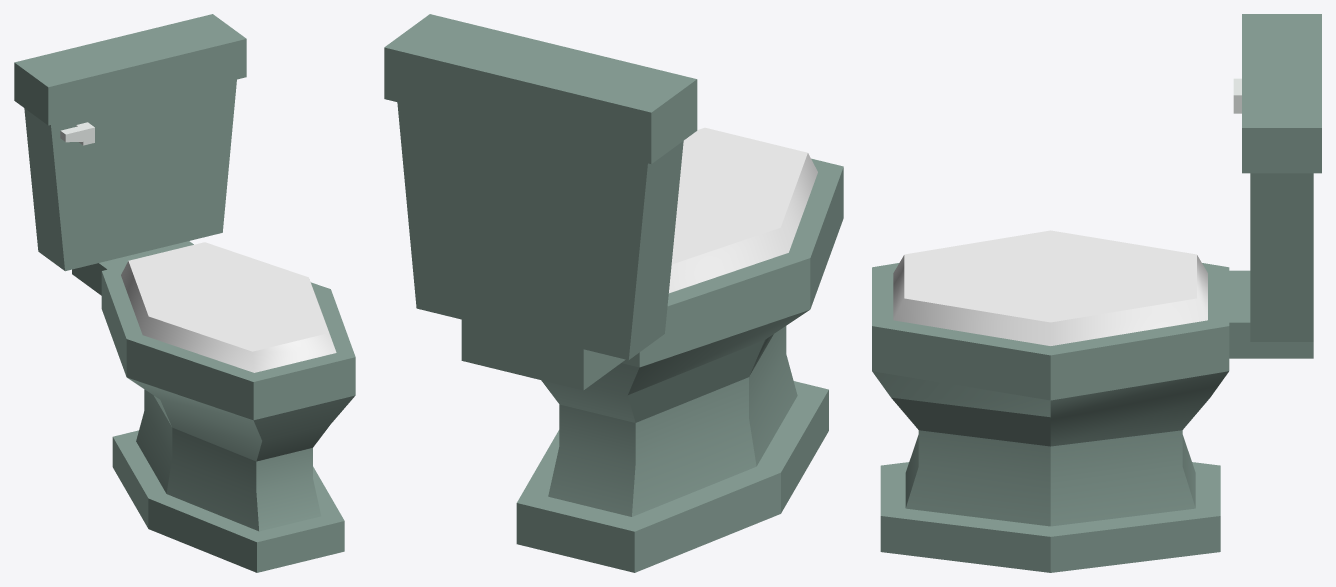
The model's file is toilet.glb.
3 renders of one model, left to right at view 1: azimuth 30°, elevation 25°; view 2: azimuth 150°, elevation 25°; view 3: azimuth 270°, elevation 25°, orthographic. The views are drawn at different scales.
Parts seen in each view (by area): view 1: toilet(Clone), cover; view 2: toilet(Clone), cover; view 3: toilet(Clone), cover.
Boxes of the visible parts, bbox=[...] form: toilet(Clone): bbox=[14, 14, 355, 572]; cover: bbox=[121, 242, 336, 372]; toilet(Clone): bbox=[384, 14, 843, 572]; cover: bbox=[669, 127, 817, 293]; toilet(Clone): bbox=[872, 14, 1321, 572]; cover: bbox=[893, 230, 1207, 345].
Size of the model in its own units: 0.42 by 0.76 by 0.68.
